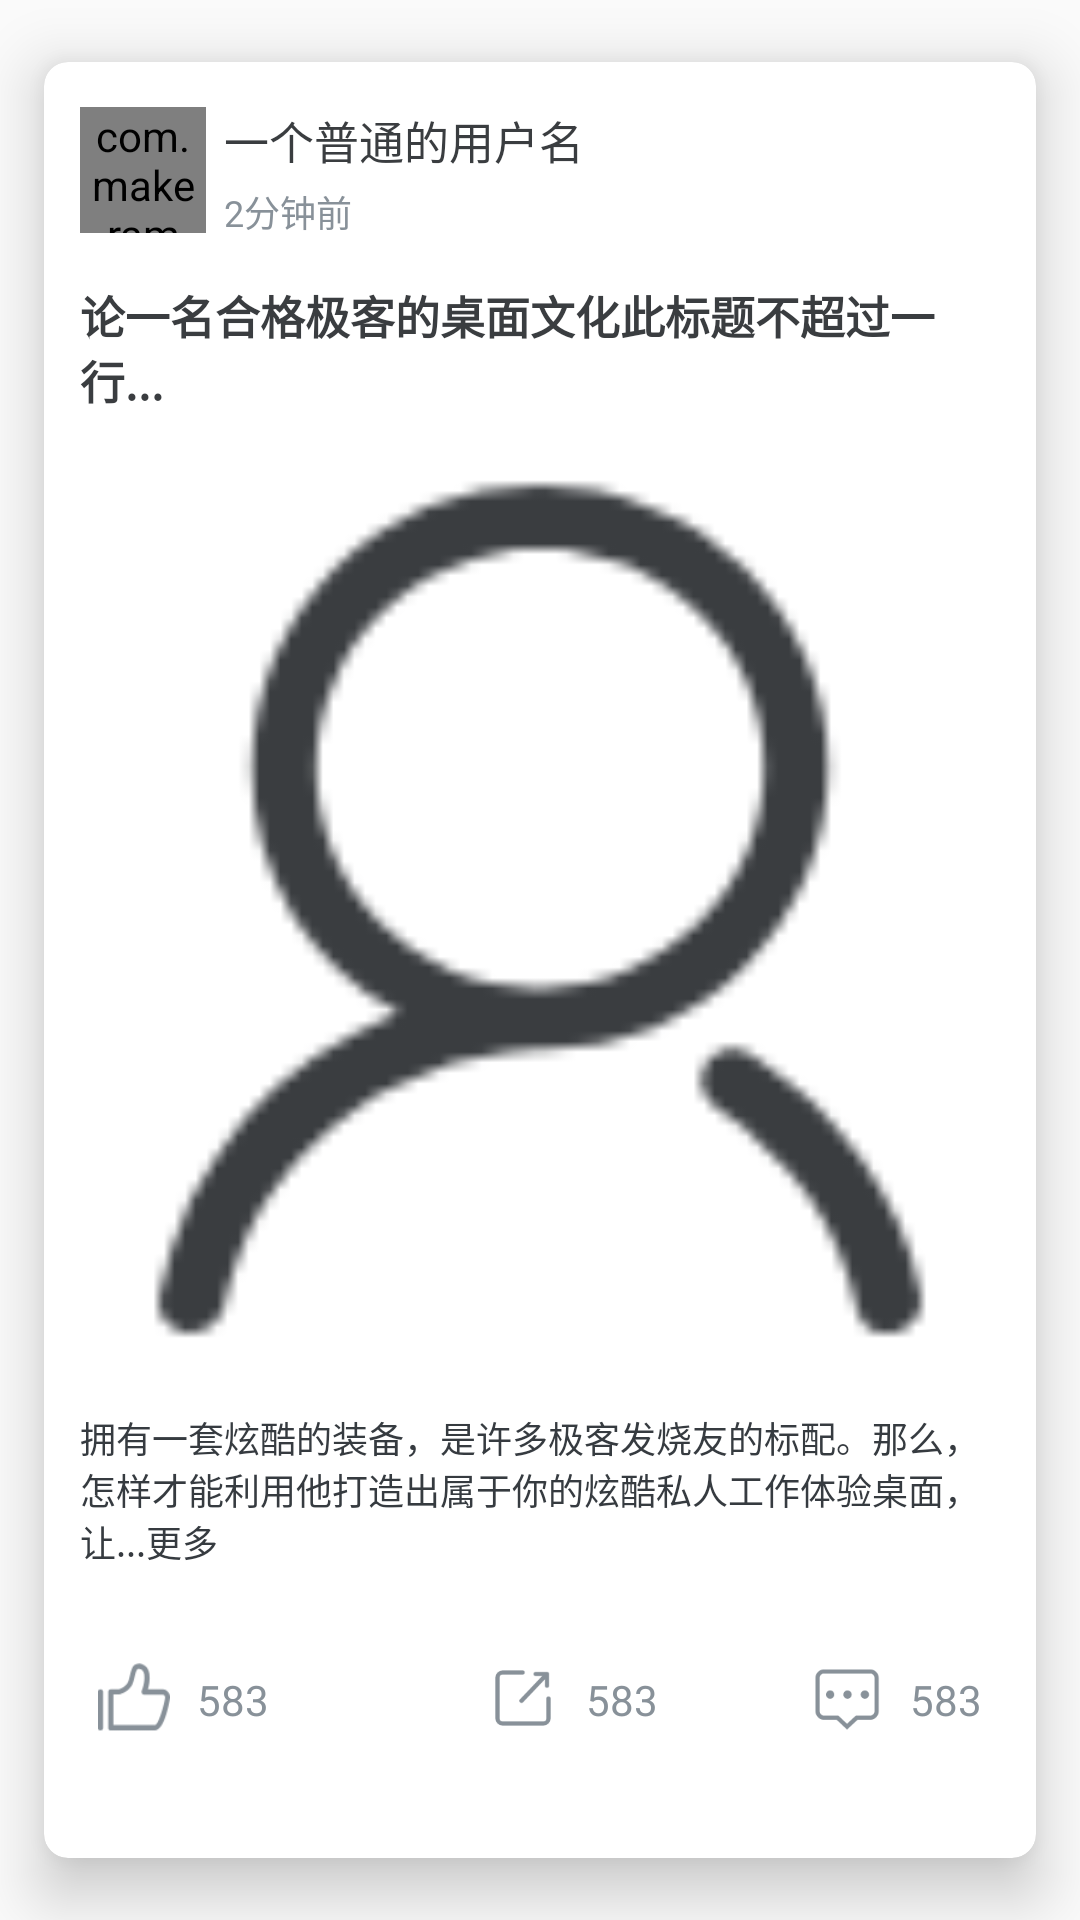

Where to tap for icons on this 1080w x 1920h app screen, as (x=x, y=y):
comments: (x=847, y=1699)
share: (x=523, y=1698)
